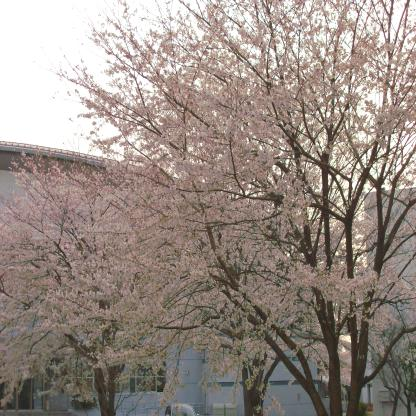Someiyoshino: (1, 2, 416, 414)
